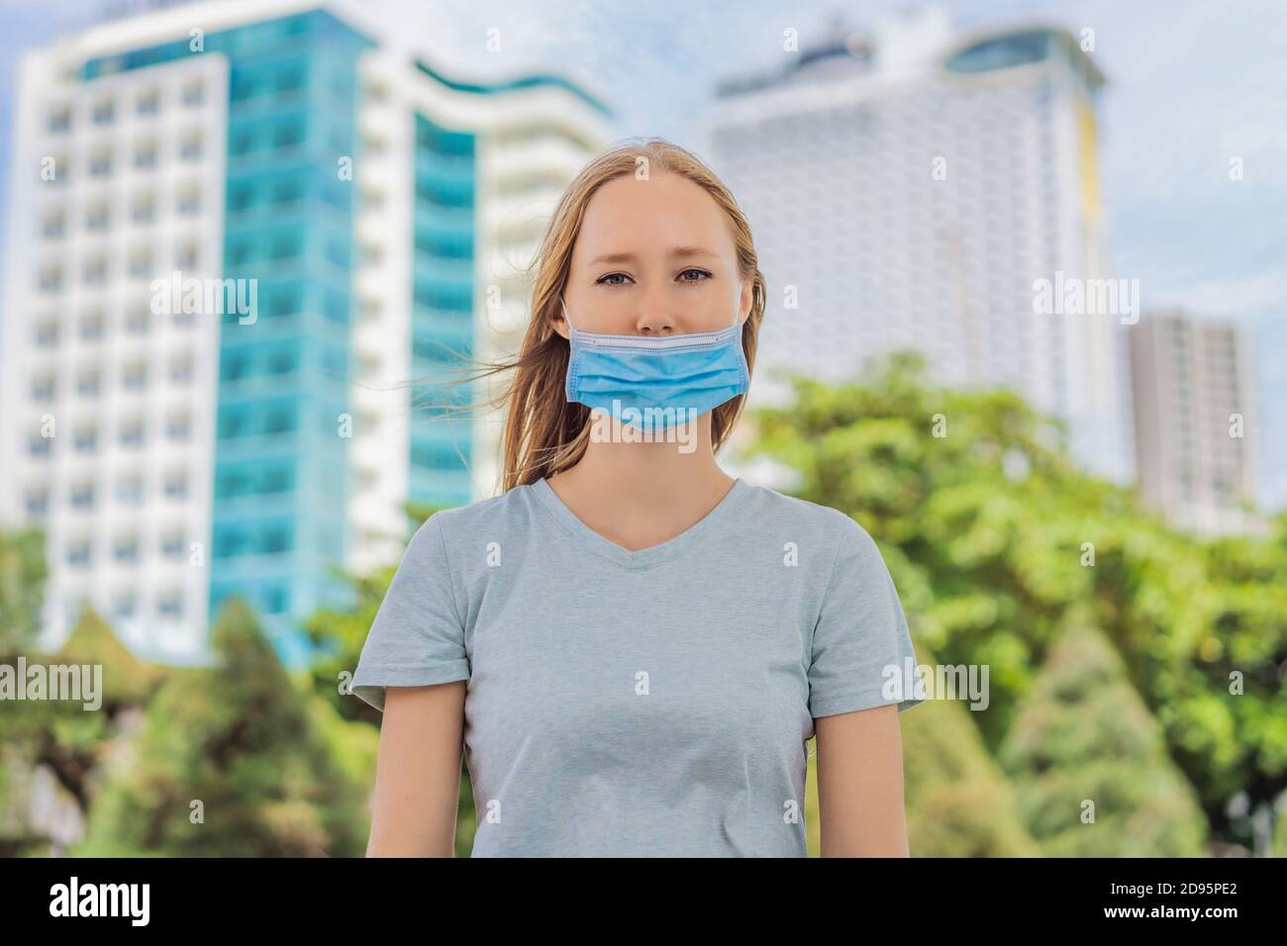mask_weared_incorrect: (566, 169, 759, 443)
